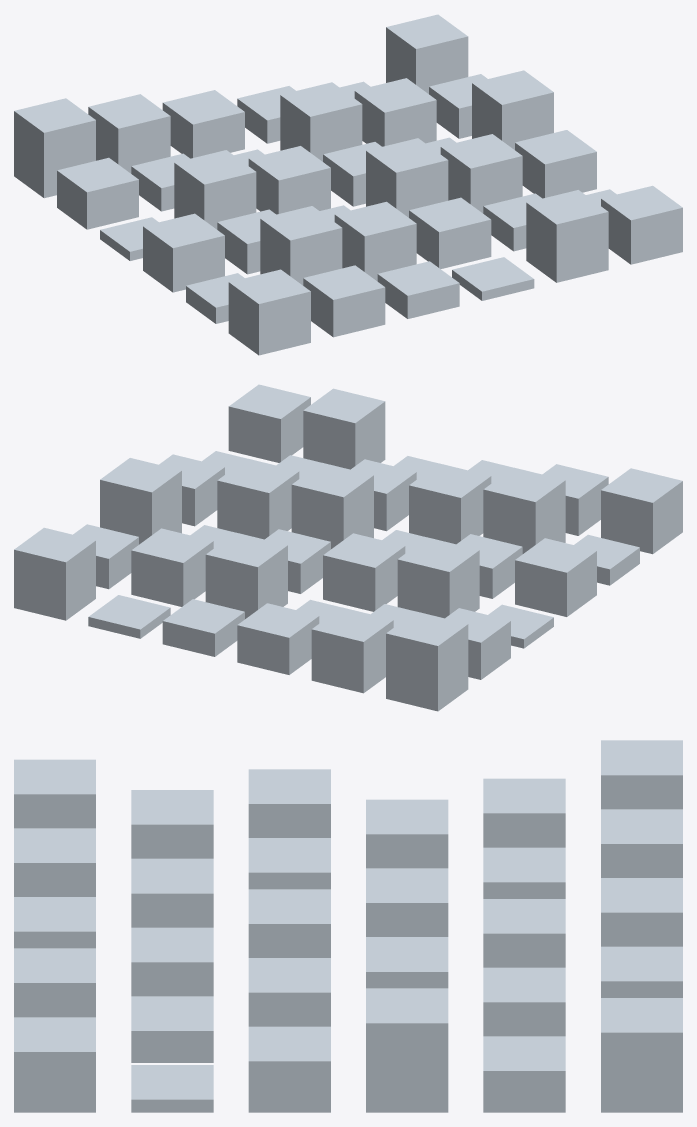
The model's file is block-1.glb.
3 views of the same model, one above another, from view 1: azimuth 30°, elevation 25°; view 2: azimuth 150°, elevation 25°; view 3: azimuth 270°, elevation 25° (orthographic). The views are drawn at different scales.
Size of the model in its own units: 950 by 140 by 950.
